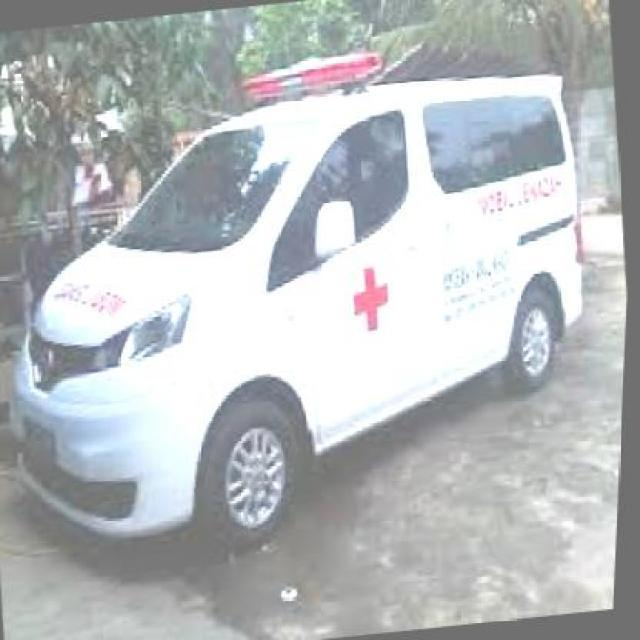emergency-vehicle: (0, 29, 612, 564)
